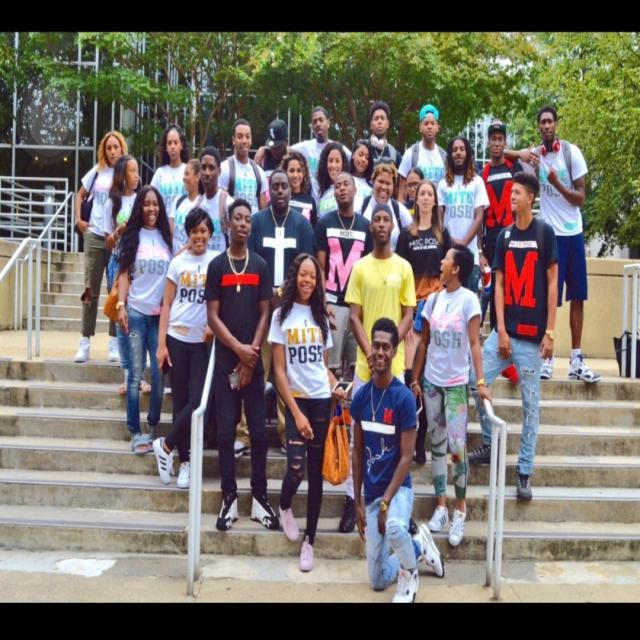body: (460, 167, 562, 505), (487, 101, 602, 389), (264, 250, 353, 576), (346, 317, 446, 604), (338, 199, 419, 539), (226, 168, 318, 462), (408, 238, 493, 550), (202, 195, 276, 537), (151, 204, 224, 490), (102, 182, 177, 456), (472, 117, 529, 384), (393, 179, 454, 428), (100, 152, 154, 396), (74, 129, 129, 363), (315, 170, 375, 384), (253, 105, 353, 213), (436, 136, 490, 296), (353, 160, 414, 254), (396, 103, 451, 206), (188, 146, 236, 254), (217, 117, 268, 217), (361, 100, 405, 200), (148, 123, 190, 224), (168, 157, 206, 257), (278, 151, 318, 234), (313, 142, 351, 225), (259, 118, 295, 173), (348, 139, 374, 213), (398, 164, 428, 221)
